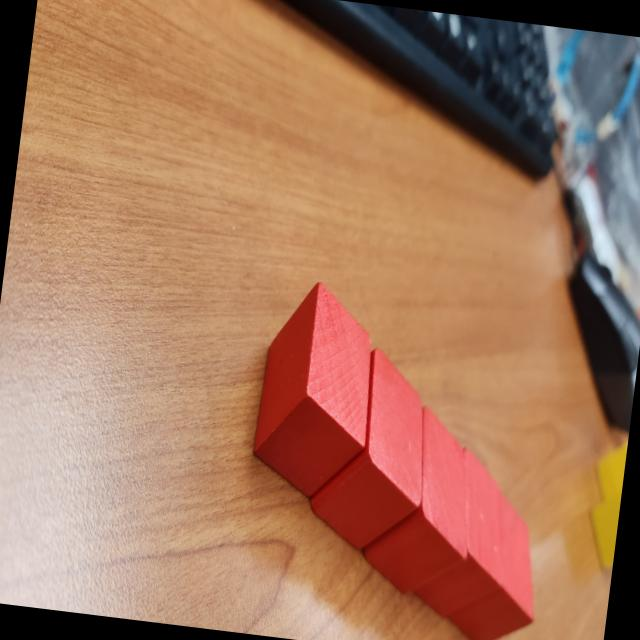red: (243, 272, 384, 504), (300, 340, 440, 560), (356, 398, 486, 602), (408, 442, 518, 626), (444, 481, 551, 640)
yellow: (583, 429, 629, 577)
